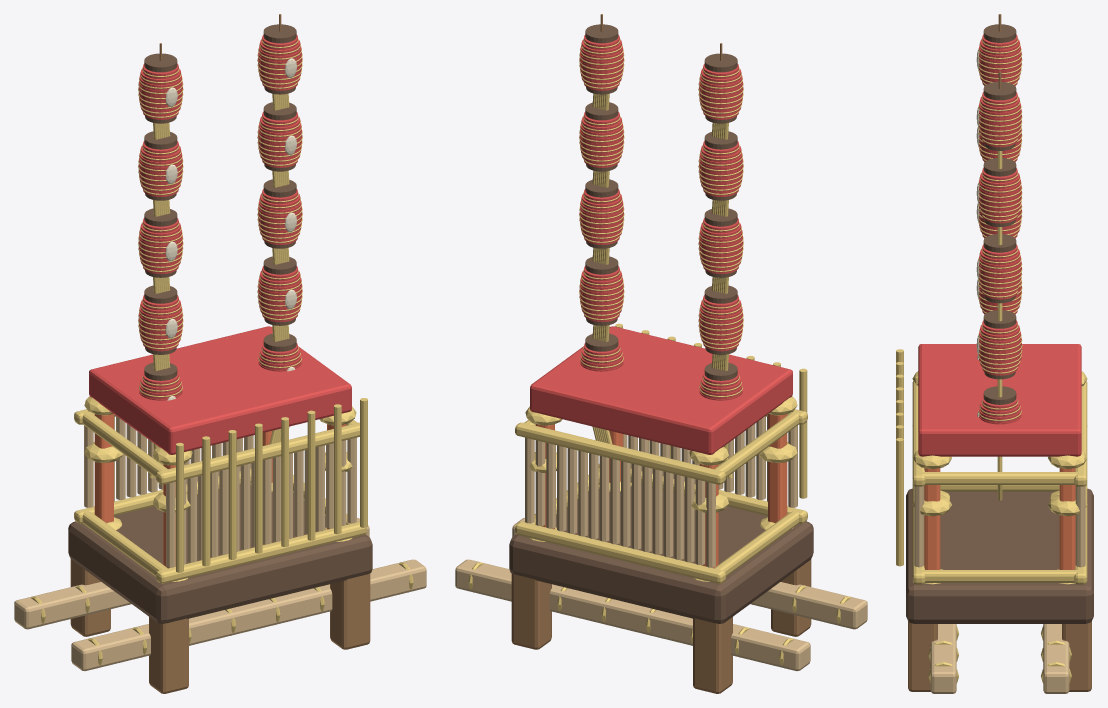
Rendered from matsuri_lantern_tower.glb.
3 views of the same model, side by side, from view 1: azimuth 30°, elevation 25°; view 2: azimuth 150°, elevation 25°; view 3: azimuth 270°, elevation 25° (orthographic).
Visible parts, largest first — view 1: Tall festival altar platform, Heavy joined lacquered chassis, Side carrying beam, Side carrying beam.001, Through-tenon oak support, Carved balustrade, Through-tenon oak support.002, Carved balustrade.002, Turned festival pillar.001, Hand-carved transverse sill, Hand-carved transverse sill.002, Through-tenon oak support.001 (+21 smaller); view 2: Tall festival altar platform, Heavy joined lacquered chassis, Side carrying beam.001, Carved balustrade.003, Side carrying beam, Carved balustrade.001, Through-tenon oak support.001, Through-tenon oak support.003, Turned festival pillar, Hand-carved transverse sill, Hand-carved transverse sill.002, Through-tenon oak support (+21 smaller); view 3: Heavy joined lacquered chassis, Tall festival altar platform, Hand-carved transverse sill.003, Hand-carved transverse sill.001, Side carrying beam, Side carrying beam.001, Through-tenon oak support.002, Through-tenon oak support.003, Turned festival pillar.002, Turned festival pillar.003, Lantern tower lacquer grate.007, Miniature carved railing baluster.034 (+16 smaller).
Part boxes in pixels (bbox=[...]): Tall festival altar platform: bbox=[89, 326, 351, 454]; Heavy joined lacquered chassis: bbox=[68, 485, 372, 623]; Side carrying beam: bbox=[71, 559, 426, 671]; Side carrying beam.001: bbox=[14, 518, 369, 629]; Through-tenon oak support: bbox=[149, 617, 188, 693]; Carved balustrade: bbox=[156, 521, 366, 583]; Through-tenon oak support.002: bbox=[330, 573, 370, 649]; Carved balustrade.002: bbox=[156, 422, 359, 484]; Turned festival pillar.001: bbox=[94, 414, 113, 523]; Hand-carved transverse sill: bbox=[82, 509, 168, 576]; Hand-carved transverse sill.002: bbox=[82, 411, 169, 477]; Through-tenon oak support.001: bbox=[70, 559, 110, 636]; Tall festival altar platform: bbox=[530, 326, 792, 454]; Heavy joined lacquered chassis: bbox=[509, 485, 813, 623]; Side carrying beam.001: bbox=[455, 559, 810, 671]; Carved balustrade.003: bbox=[515, 422, 725, 484]; Side carrying beam: bbox=[512, 518, 867, 629]; Carved balustrade.001: bbox=[515, 521, 725, 583]; Through-tenon oak support.001: bbox=[693, 617, 732, 693]; Through-tenon oak support.003: bbox=[511, 573, 551, 649]; Turned festival pillar: bbox=[768, 414, 787, 523]; Hand-carved transverse sill: bbox=[713, 509, 799, 576]; Hand-carved transverse sill.002: bbox=[712, 412, 799, 477]; Through-tenon oak support: bbox=[771, 559, 811, 636]; Heavy joined lacquered chassis: bbox=[906, 488, 1093, 623]; Tall festival altar platform: bbox=[918, 344, 1081, 456]; Hand-carved transverse sill.003: bbox=[917, 472, 1082, 484]; Hand-carved transverse sill.001: bbox=[917, 570, 1082, 582]; Side carrying beam: bbox=[930, 624, 956, 693]; Side carrying beam.001: bbox=[1043, 624, 1069, 693]; Through-tenon oak support.002: bbox=[908, 621, 937, 691]; Through-tenon oak support.003: bbox=[1062, 621, 1091, 691]; Turned festival pillar.002: bbox=[924, 468, 940, 569]; Turned festival pillar.003: bbox=[1059, 468, 1075, 569]; Lantern tower lacquer grate.007: bbox=[896, 438, 903, 566]; Miniature carved railing baluster.034: bbox=[914, 486, 924, 567].
Bounding box in the file's own units: 1.16 × 1.95 × 0.5833.
